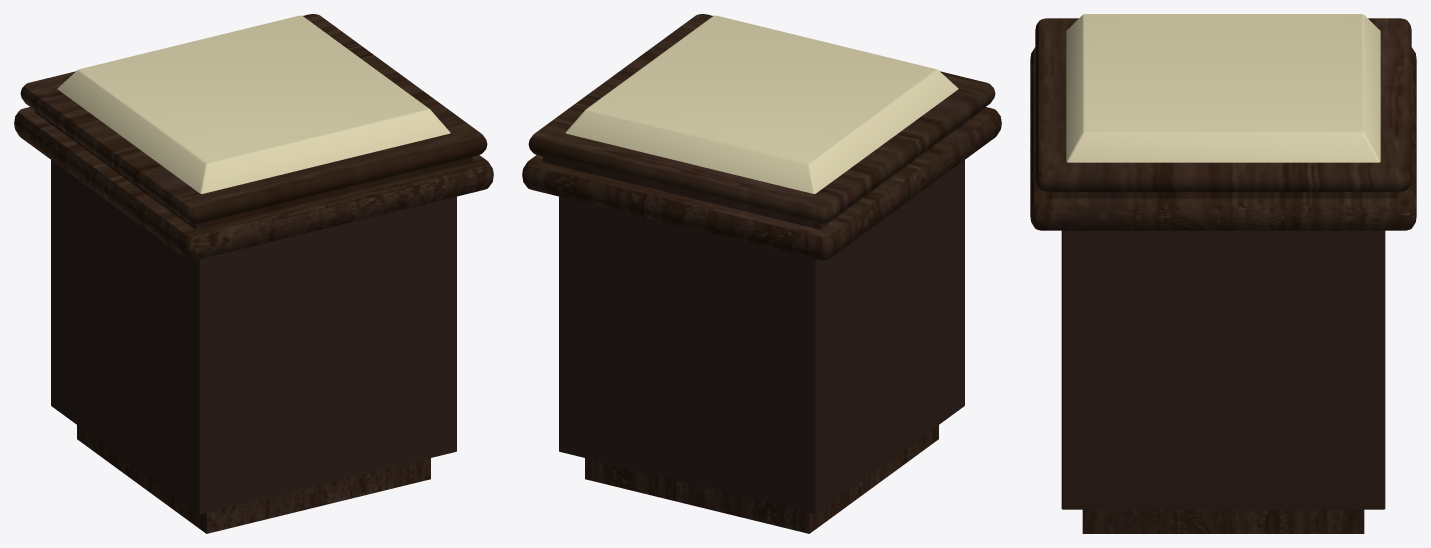
The model's file is Object_Pedestal_BrownModern1.glb.
3 views of the same model, side by side, from view 1: azimuth 30°, elevation 25°; view 2: azimuth 150°, elevation 25°; view 3: azimuth 270°, elevation 25° (orthographic). The views are drawn at different scales.
Parts seen in each view (by area): view 1: Cube, Cube.002, Cube.001, Cube.003; view 2: Cube, Cube.002, Cube.001, Cube.003; view 3: Cube, Cube.002, Cube.001, Cube.003.
Part boxes in pixels (bbox=[...]): Cube: bbox=[51, 160, 456, 514]; Cube.002: bbox=[57, 15, 450, 193]; Cube.001: bbox=[14, 14, 493, 260]; Cube.003: bbox=[77, 425, 430, 533]; Cube: bbox=[559, 160, 964, 514]; Cube.002: bbox=[565, 15, 958, 193]; Cube.001: bbox=[522, 14, 1001, 260]; Cube.003: bbox=[585, 425, 938, 533]; Cube: bbox=[1061, 230, 1385, 509]; Cube.002: bbox=[1066, 14, 1380, 162]; Cube.001: bbox=[1030, 18, 1416, 230]; Cube.003: bbox=[1082, 509, 1364, 533].
Size of the model in its own units: 2.31 by 2.64 by 2.31.
Materials: 3 (1 with a texture image).
